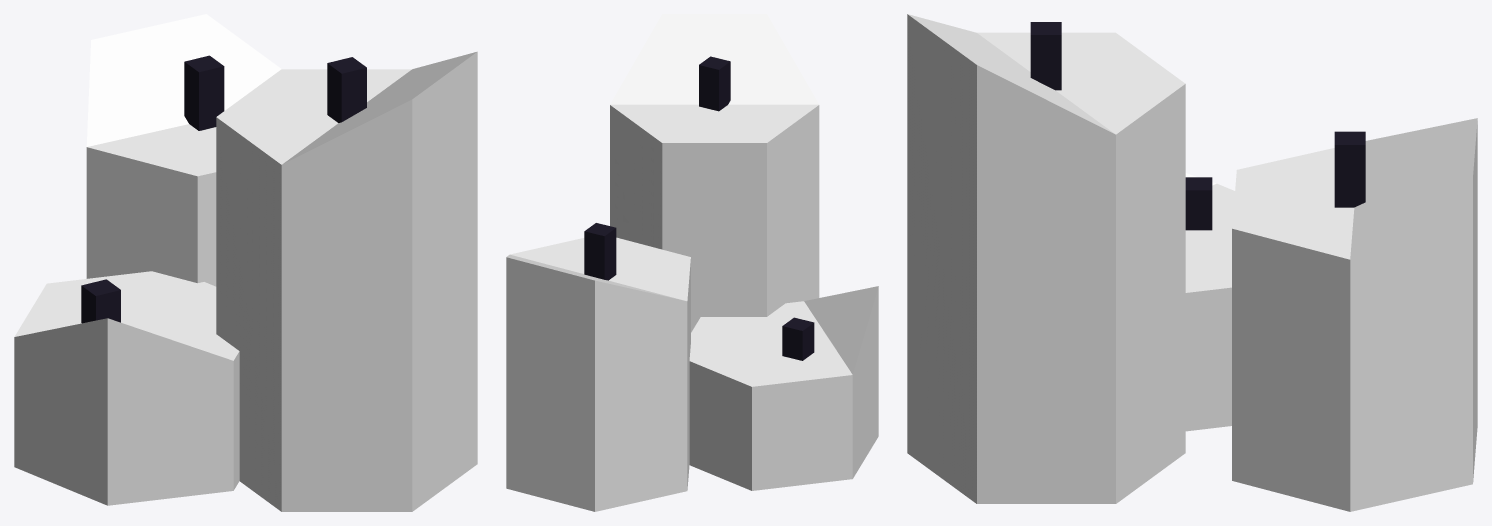
Rendered from candles.glb.
3 views of the same model, side by side, from view 1: azimuth 30°, elevation 25°; view 2: azimuth 150°, elevation 25°; view 3: azimuth 270°, elevation 25° (orthographic). The views are drawn at different scales.
Parts seen in each view (by area): view 1: Candles; view 2: Candles; view 3: Candles.
Boxes of the visible parts, x1,y1,x2,y2 form: Candles: (14,14,477,511); Candles: (506,14,878,511); Candles: (907,14,1477,511).
Bounding box in the file's own units: 0.2683 × 0.2893 × 0.3405.
Materials: 1 (1 with a texture image).
